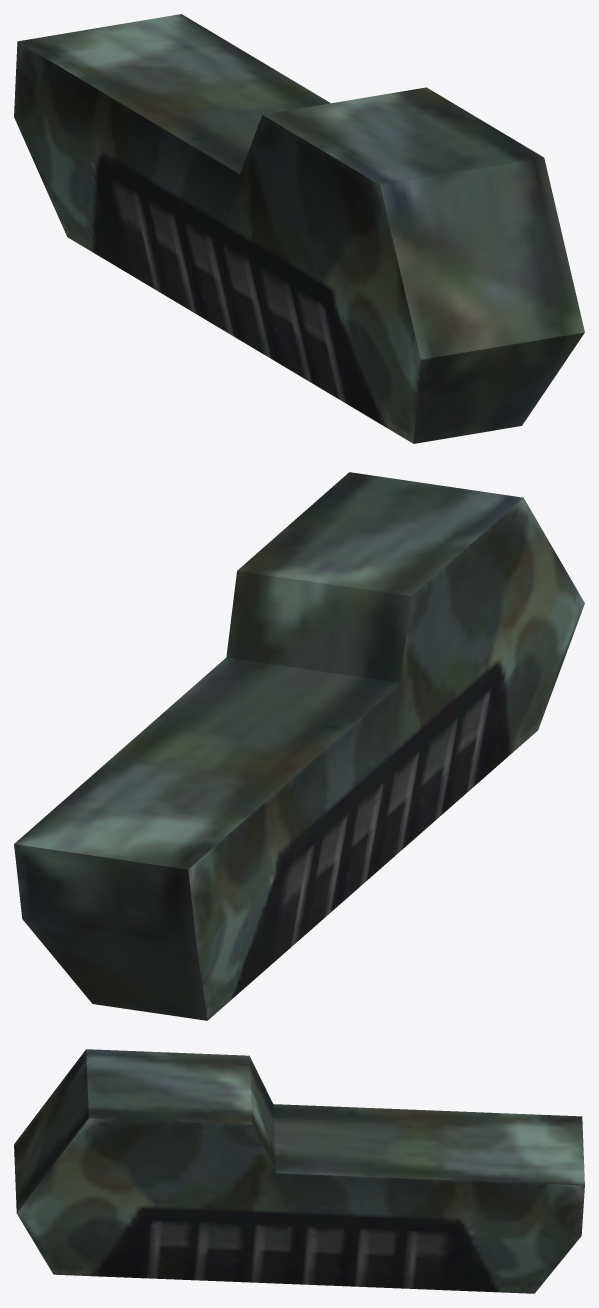
Rendered from gun34_reload.obj.
3 views of the same model, one above another, from view 1: azimuth 30°, elevation 25°; view 2: azimuth 150°, elevation 25°; view 3: azimuth 270°, elevation 25° (orthographic). The views are drawn at different scales.
Parts seen in each view (by area): view 1: gun34_reload; view 2: gun34_reload; view 3: gun34_reload.
Part boxes in pixels (<box>): gun34_reload: <box>14,14,584,443</box>; gun34_reload: <box>14,472,584,1020</box>; gun34_reload: <box>14,1049,584,1293</box>.
Size of the model in its own units: 0.1088 by 0.1556 by 0.3883.
Materials: 1 (1 with a texture image).
